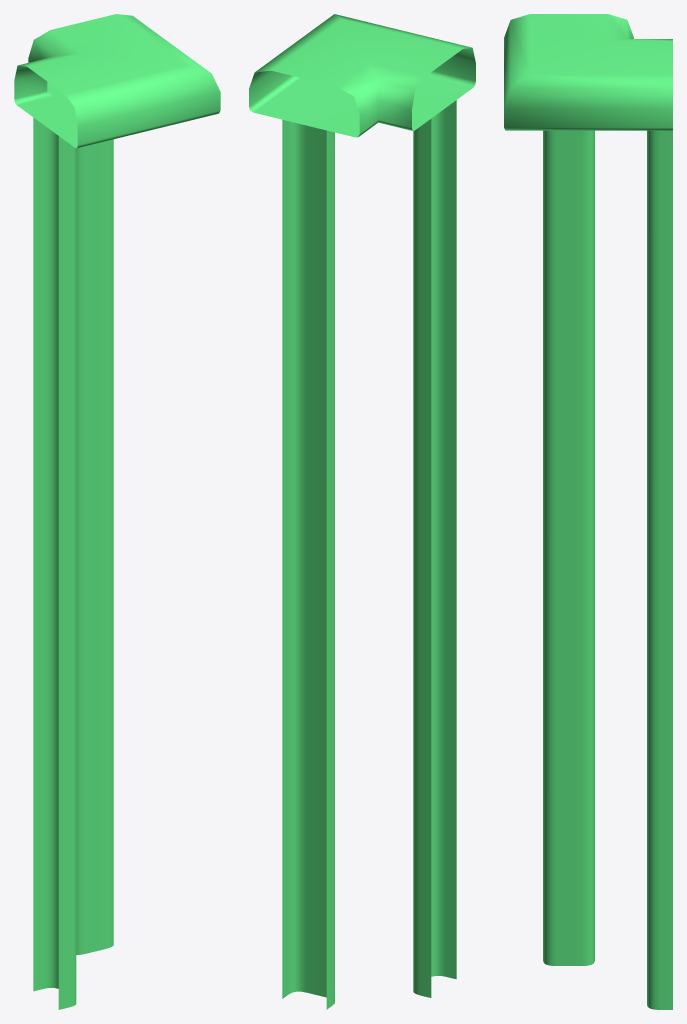
Rendered from railing_corner_90_low.fbx.
3 views of the same model, side by side, from view 1: azimuth 30°, elevation 25°; view 2: azimuth 150°, elevation 25°; view 3: azimuth 270°, elevation 25° (orthographic). The views are drawn at different scales.
Parts seen in each view (by area): view 1: Box029; view 2: Box029; view 3: Box029.
Part boxes in pixels (x1,y1,x2,y2): Box029: (14,14,220,1009); Box029: (249,14,475,1009); Box029: (504,14,672,1009).
Size of the model in its own units: 16.25 by 100 by 16.25.
